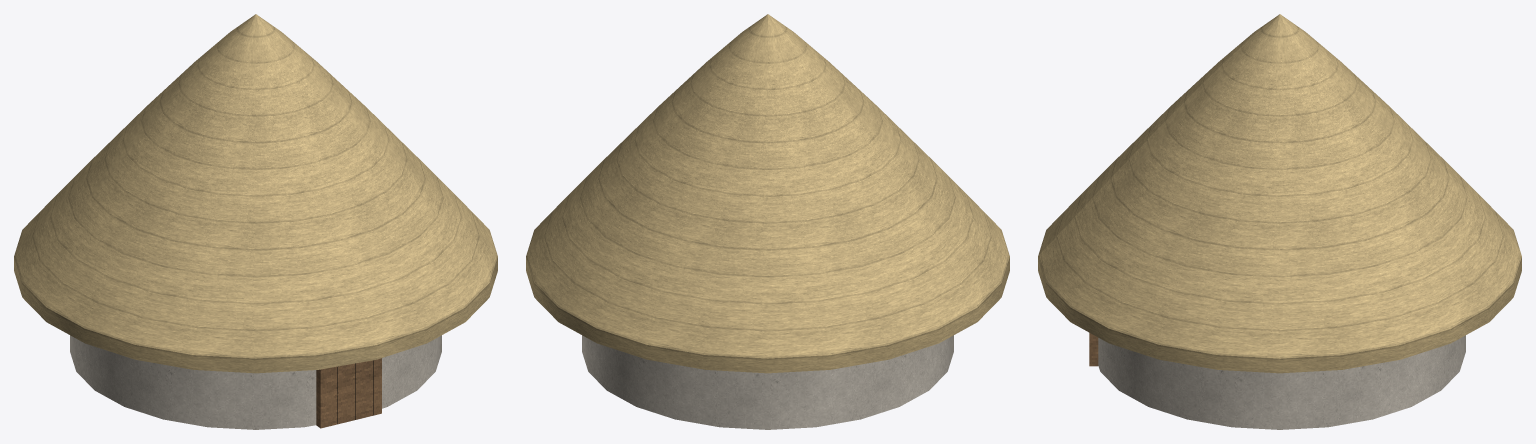
The model's file is house_rondavel.glb.
3 renders of one model, left to right at view 1: azimuth 30°, elevation 25°; view 2: azimuth 150°, elevation 25°; view 3: azimuth 270°, elevation 25°, orthographic.
Parts seen in each view (by area): view 1: LOD0; view 2: LOD0; view 3: LOD0.
Boxes of the visible parts, left/top/right/bottom form: LOD0: left=14, top=14, right=497, bottom=429; LOD0: left=526, top=14, right=1009, bottom=429; LOD0: left=1038, top=14, right=1521, bottom=429.
Size of what is drawn, in the model's own units: 6.5 by 5 by 6.5.
Materials: 3 (3 with a texture image).
